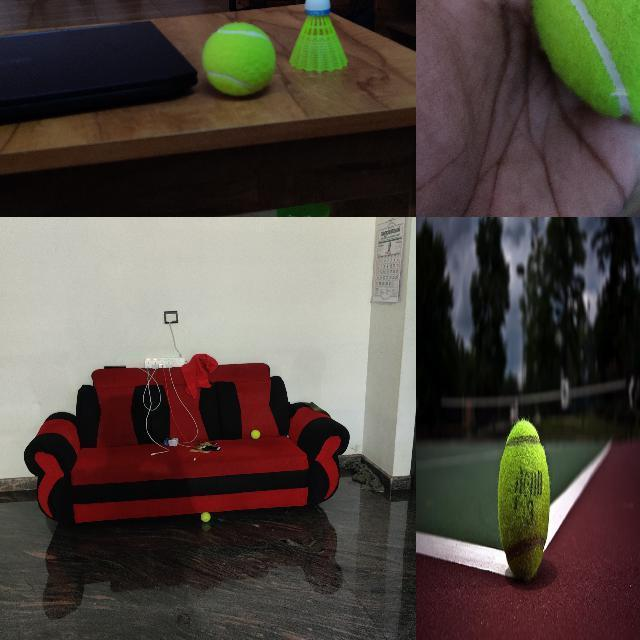tennis-ball: (534, 0, 639, 125), (497, 418, 550, 579), (202, 23, 274, 95), (200, 511, 210, 521), (250, 429, 260, 438)
